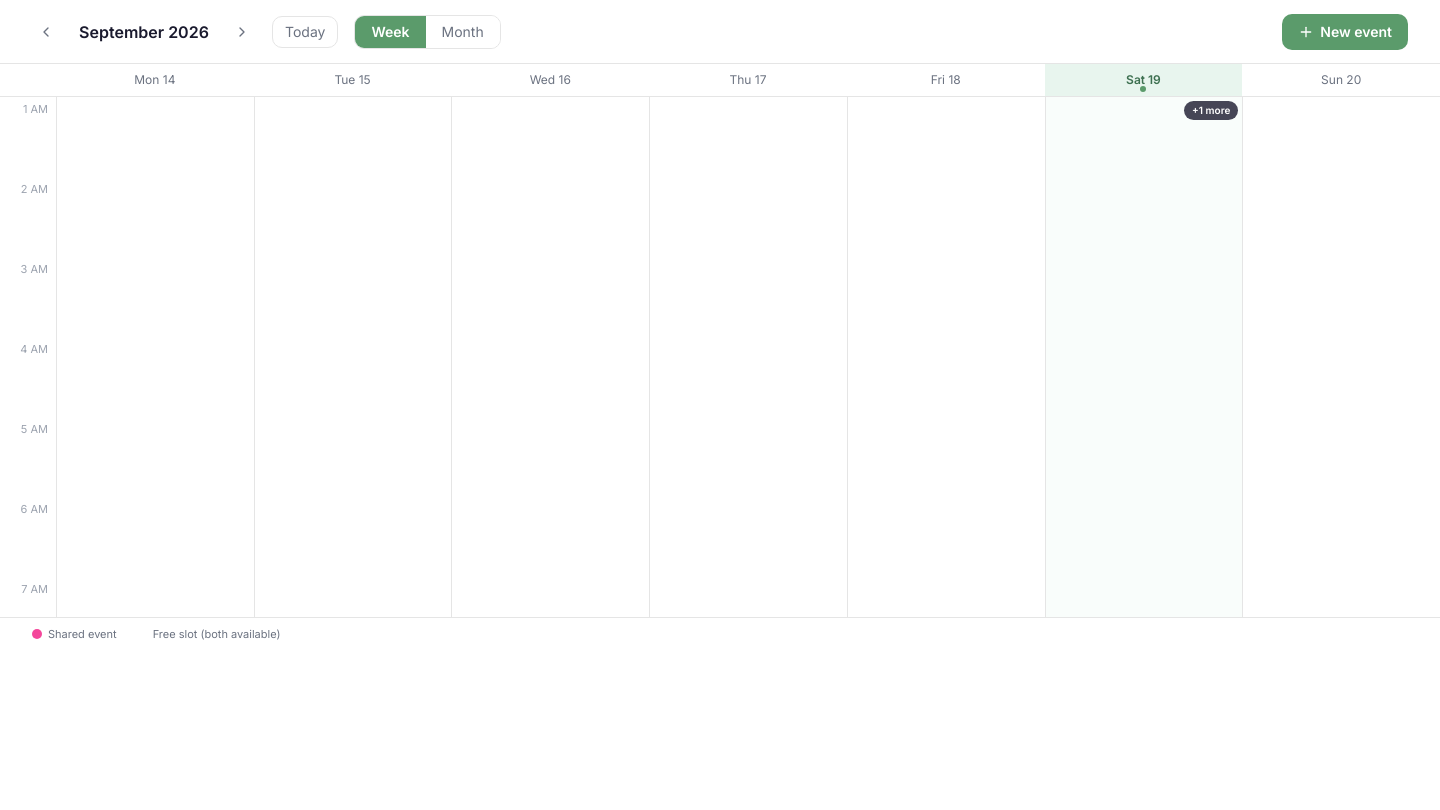
it: LobbyCalendarView › opens the event detail panel from the day agenda and closes the agenda
This screenshot has width=1440, height=810.
Step 1. Click the button "+1 more" → click(1211, 110), box left=1184, top=101, right=1238, bottom=120
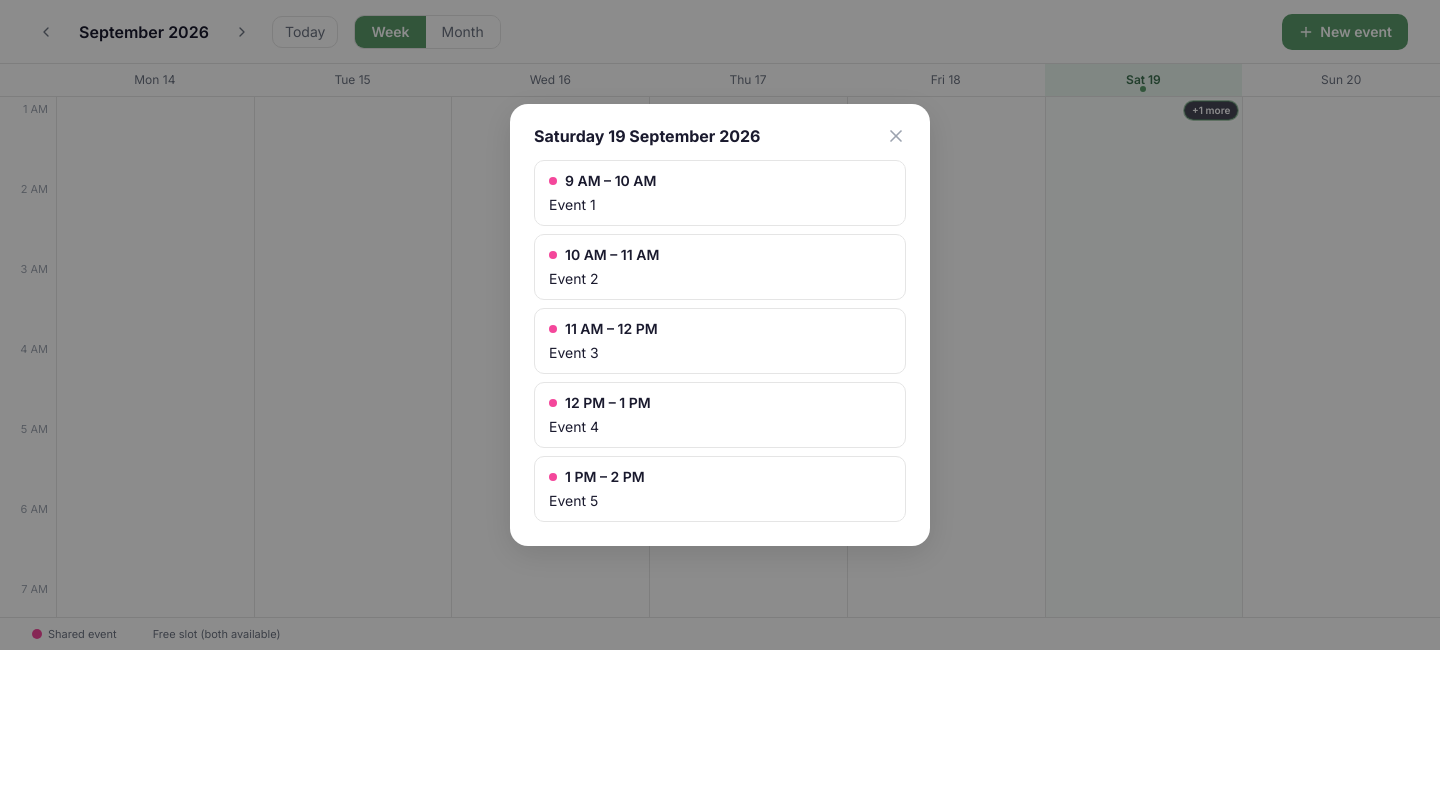
Step 2. Click the text "Event 5" → click(574, 501), box left=549, top=491, right=598, bottom=511
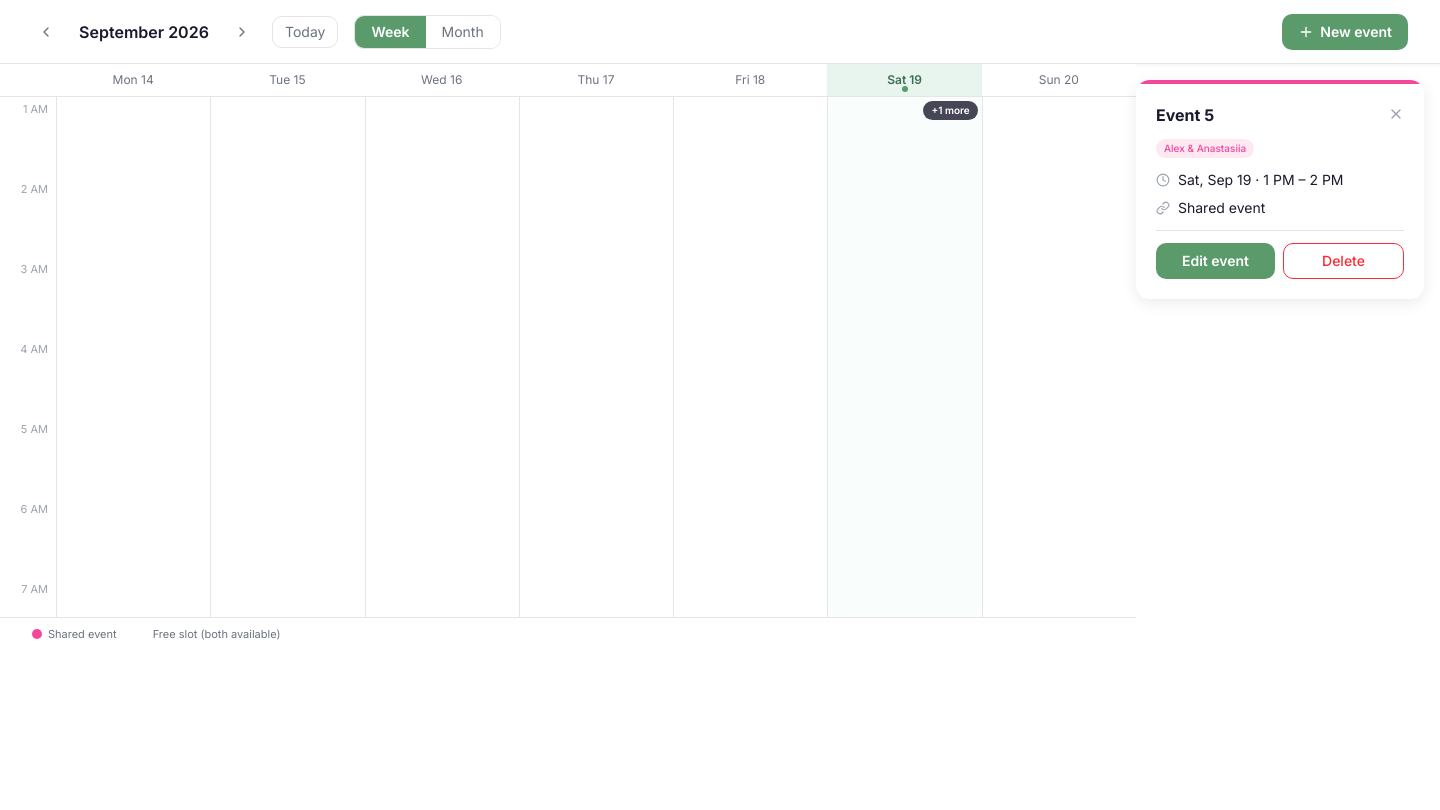
Now the button "Edit event" is shown, box left=1156, top=243, right=1275, bottom=279
